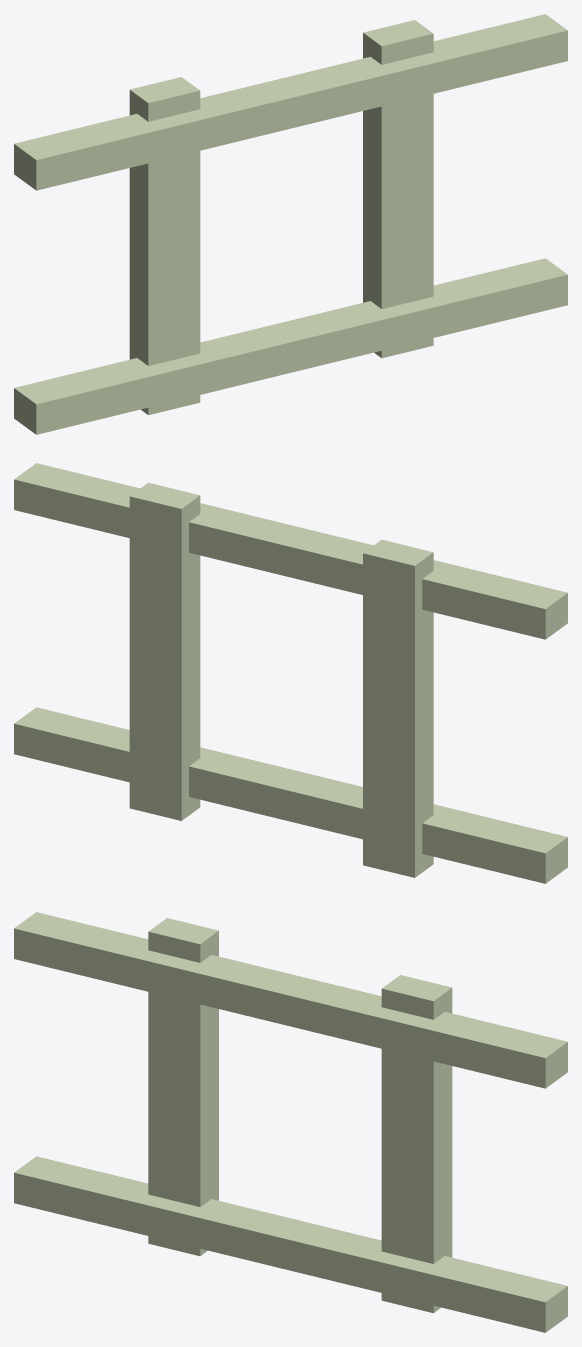
The model's file is furniture_sign_mount_bracket_double.glb.
The picture shows the model from 3 angles, top to bottom: view 1: azimuth 30°, elevation 25°; view 2: azimuth 150°, elevation 25°; view 3: azimuth 330°, elevation 25°; orthographic projection.
Visible parts, largest first — view 1: rail_upper, rail_lower, clamp_0, clamp_1; view 2: clamp_1, rail_upper, clamp_0, rail_lower; view 3: rail_upper, rail_lower, clamp_1, clamp_0.
Part boxes in pixels (x1,y1,x2,y2): rail_upper: (14, 14, 567, 190); rail_lower: (14, 258, 567, 434); clamp_0: (129, 77, 200, 415); clamp_1: (363, 20, 433, 358); clamp_1: (129, 482, 200, 820); rail_upper: (14, 463, 567, 639); clamp_0: (363, 539, 433, 877); rail_lower: (14, 707, 567, 883); rail_upper: (14, 912, 567, 1088); rail_lower: (14, 1156, 567, 1332); clamp_1: (381, 975, 452, 1313); clamp_0: (148, 918, 218, 1256).
Size of the model in its own units: 0.82 by 0.46 by 0.08.
